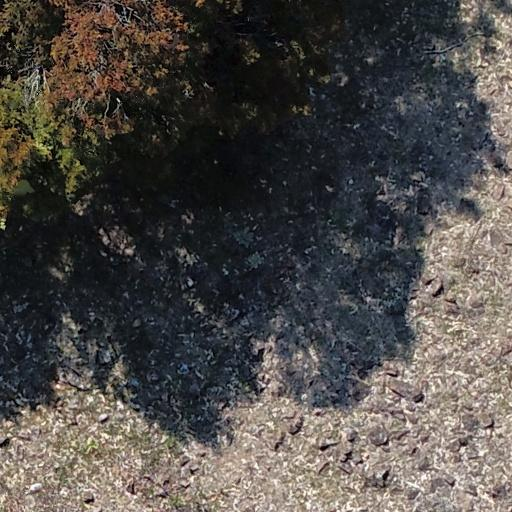stone: (388, 377, 421, 407), (368, 465, 392, 487), (314, 452, 330, 476), (368, 424, 385, 443), (288, 416, 304, 435), (342, 426, 358, 442), (427, 280, 442, 296), (491, 185, 506, 200), (318, 437, 339, 447), (478, 412, 493, 426), (390, 430, 410, 440), (444, 301, 458, 314), (175, 455, 190, 467), (450, 439, 462, 452), (454, 256, 467, 268), (82, 491, 94, 502), (446, 292, 458, 303), (424, 224, 434, 235), (0, 437, 9, 447), (98, 413, 108, 422)
